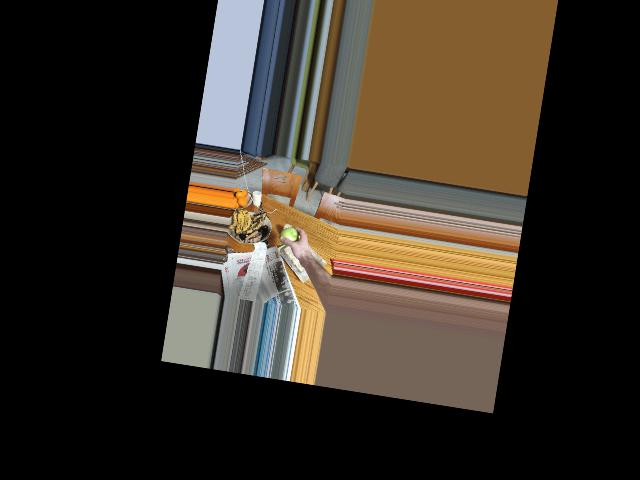apple: (278, 225, 301, 248)
